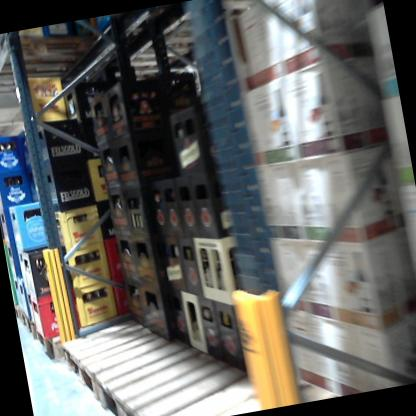pallet: (146, 347, 391, 416), (61, 312, 193, 411), (90, 328, 237, 416), (0, 18, 122, 87), (32, 318, 94, 374), (0, 36, 18, 97), (18, 304, 40, 344), (14, 299, 26, 333)
